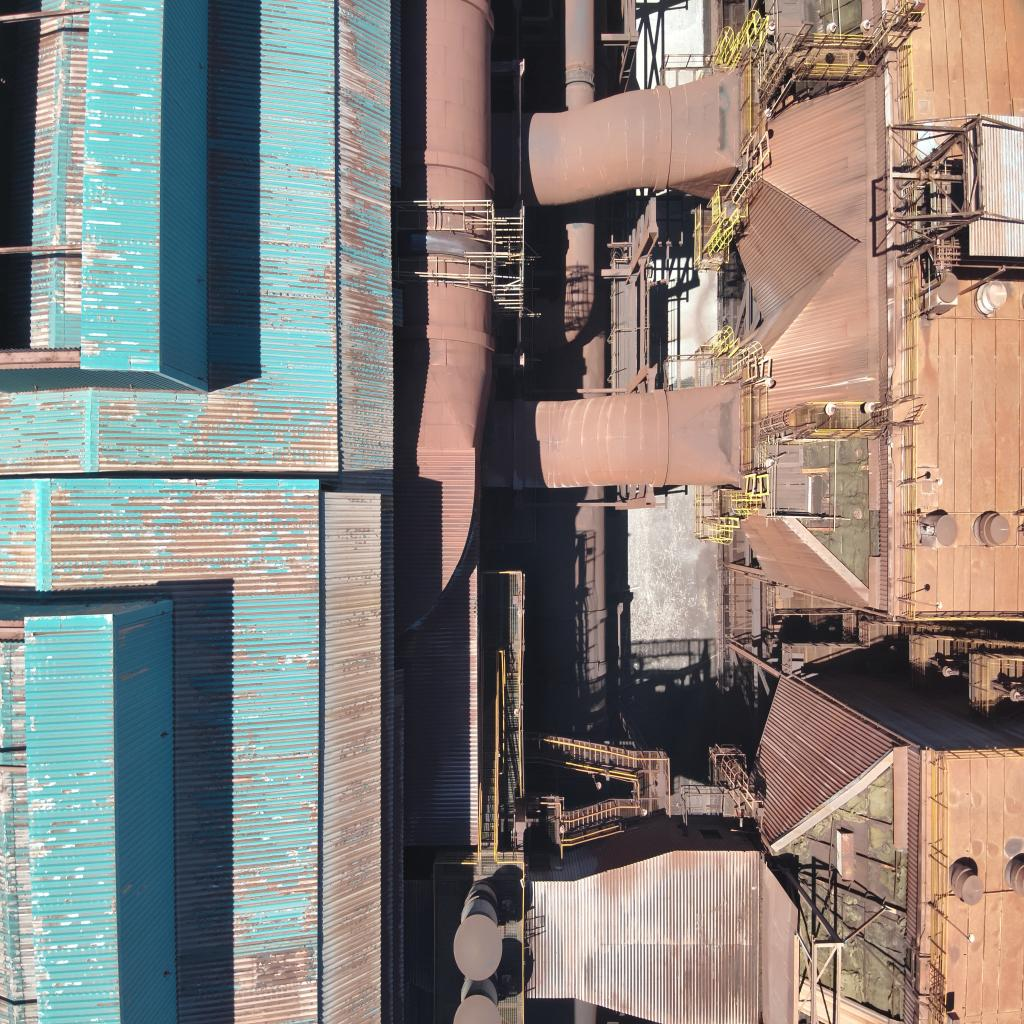Failures: (775, 755, 910, 1018), (788, 439, 886, 603), (815, 1, 870, 47)
